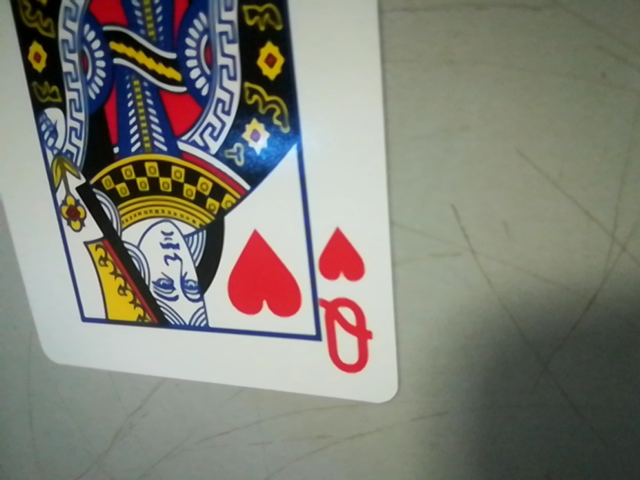hx q: (309, 218, 387, 386)
